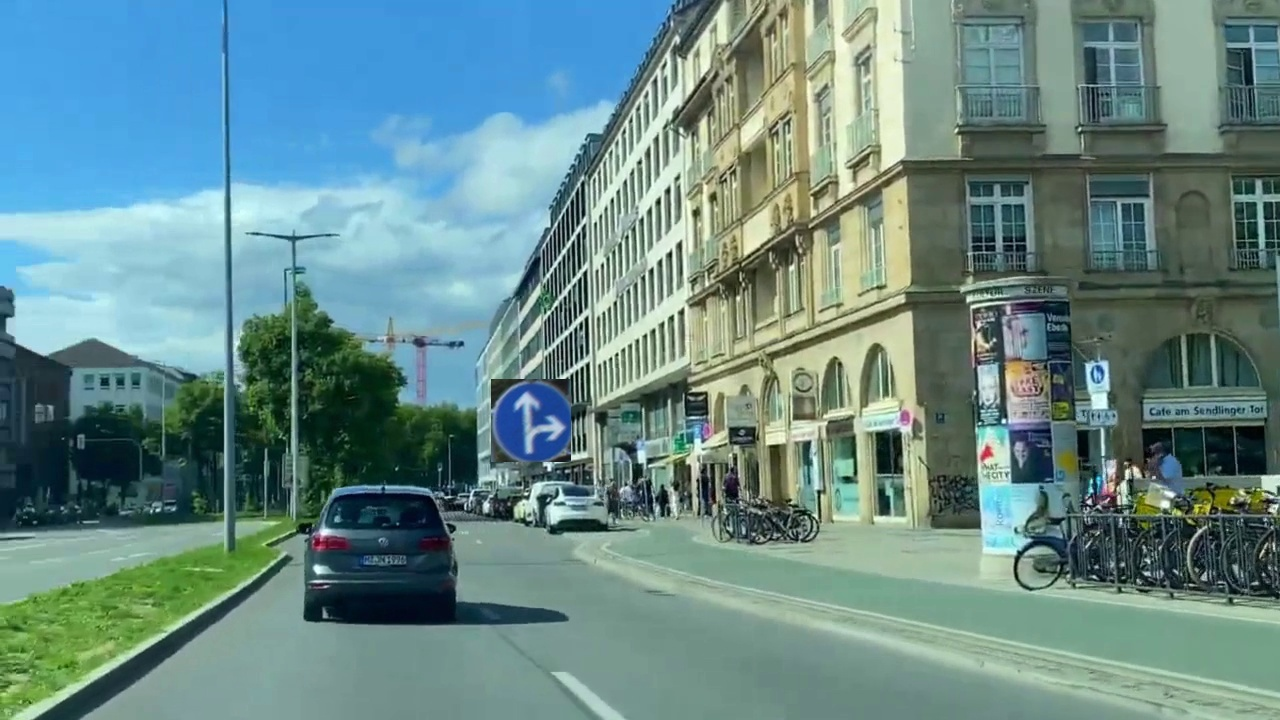Straight/right: (491, 379, 571, 462)
